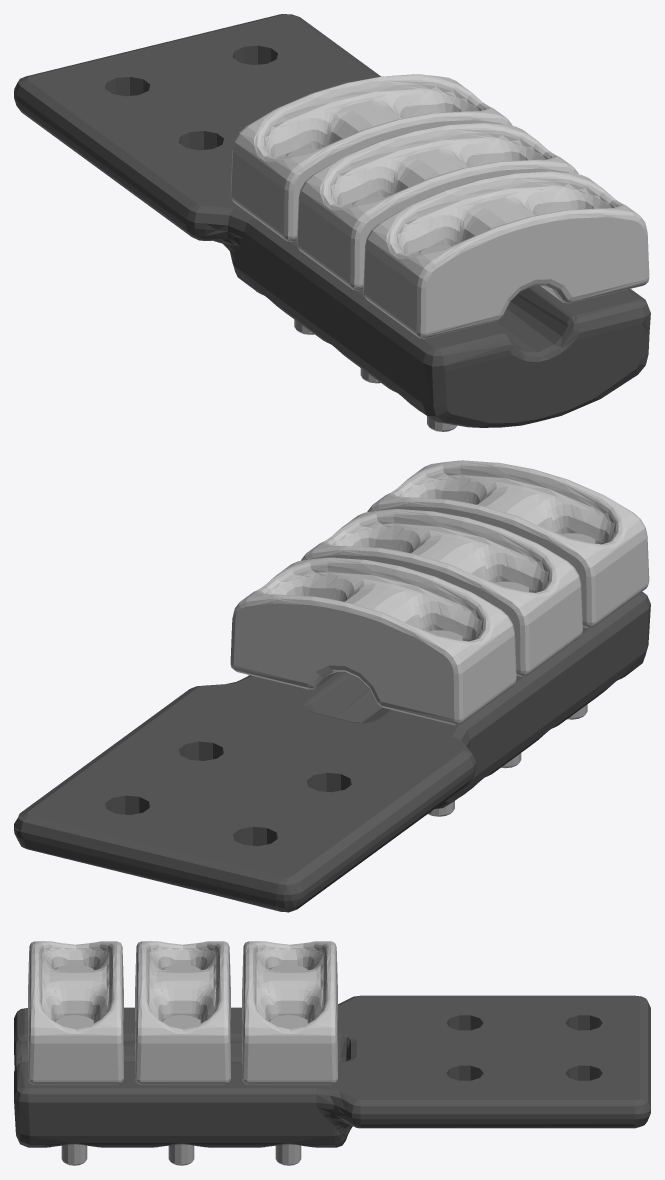
Rendered from ensamble_conector2.gltf.
3 renders of one model, top to bottom at view 1: azimuth 30°, elevation 25°; view 2: azimuth 150°, elevation 25°; view 3: azimuth 270°, elevation 25°, orthographic. The views are drawn at different scales.
Parts seen in each view (by area): view 1: Rc2P4A, Pisacable M45 V2, Tornillo 3-8 2; view 2: Rc2P4A, Pisacable M45 V2, Tornillo 3-8 2; view 3: Rc2P4A, Pisacable M45 V2, Tornillo 3-8 2.
Part boxes in pixels (x1,y1,x2,y2): Rc2P4A: [14, 14, 650, 427]; Pisacable M45 V2: [230, 74, 649, 338]; Tornillo 3-8 2: [286, 148, 457, 431]; Rc2P4A: [14, 591, 650, 912]; Pisacable M45 V2: [230, 460, 649, 725]; Tornillo 3-8 2: [427, 533, 595, 816]; Rc2P4A: [14, 995, 650, 1147]; Pisacable M45 V2: [28, 941, 337, 1084]; Tornillo 3-8 2: [55, 964, 307, 1165].
Size of the model in its own units: 2.25 by 1.58 by 5.35.
3 materials, 2 textured.
